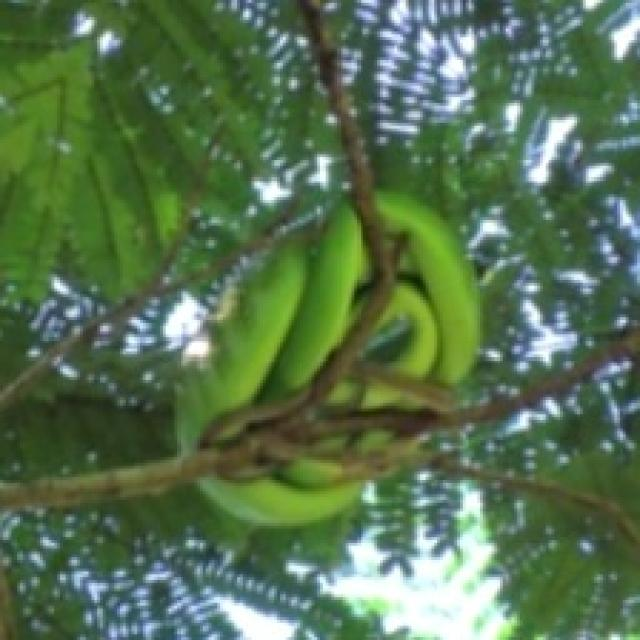red-tailed green ratsnake: (177, 203, 366, 449), (366, 191, 477, 383), (200, 477, 357, 523)
